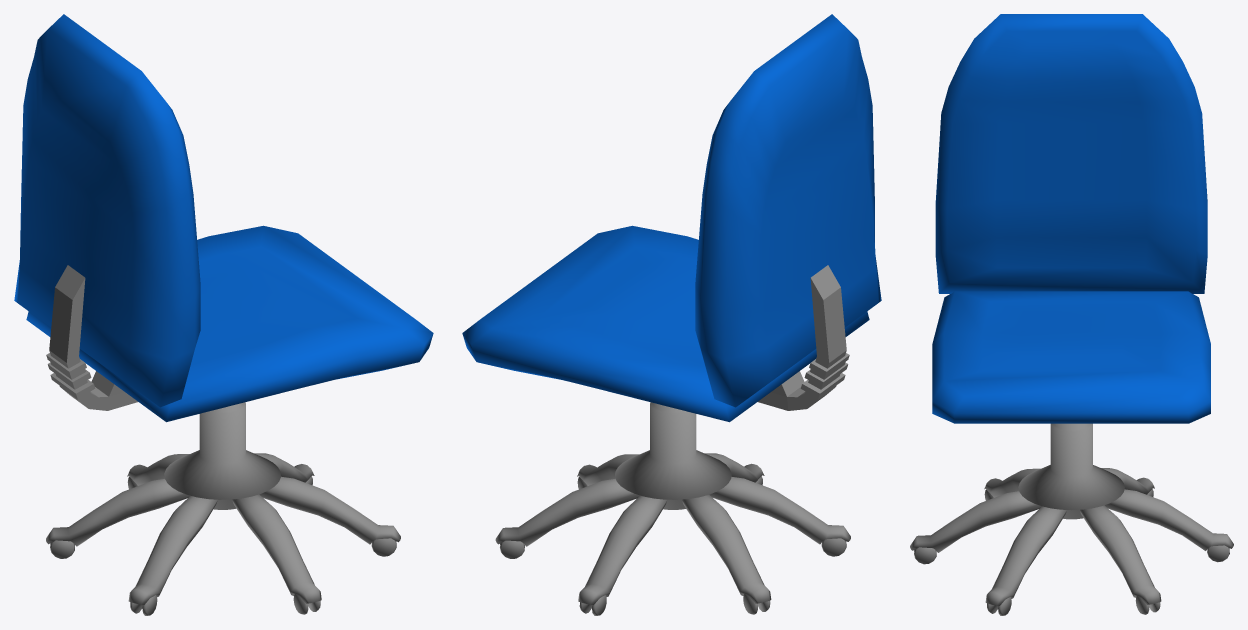
File: DebrisChair2.fbx
3 views of the same model, side by side, from view 1: azimuth 30°, elevation 25°; view 2: azimuth 150°, elevation 25°; view 3: azimuth 270°, elevation 25° (orthographic). The views are drawn at different scales.
Parts seen in each view (by area): view 1: Cube.001; view 2: Cube.001; view 3: Cube.001.
Boxes of the visible parts, <box> form: Cube.001: <box>14,14,433,615</box>; Cube.001: <box>462,14,881,615</box>; Cube.001: <box>910,14,1233,615</box>.
Size of the model in its own units: 164 by 273 by 162.
